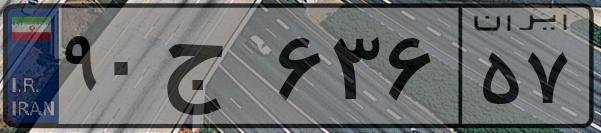0: (110, 28, 158, 98)
3: (330, 28, 385, 110)
5: (475, 38, 525, 113)
6: (270, 28, 330, 110), (385, 28, 445, 110)
7: (525, 38, 570, 115)
9: (57, 26, 110, 100)
ج: (158, 20, 270, 120)
